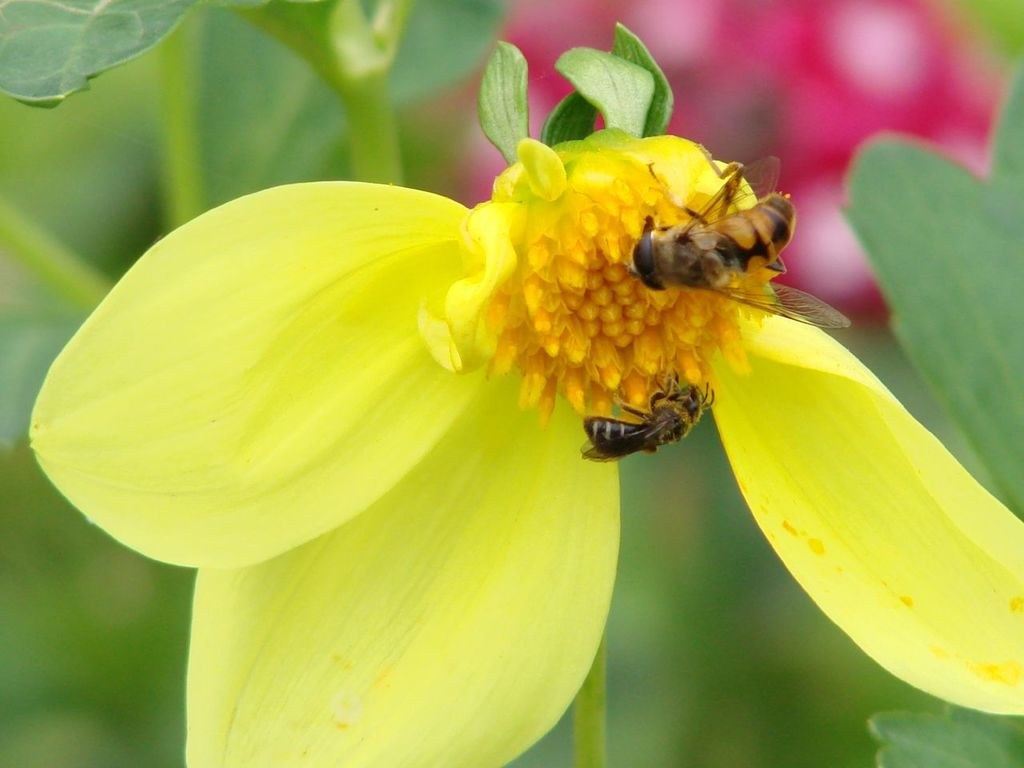bee: (625, 162, 853, 328), (566, 366, 716, 462)
insect: (90, 34, 1024, 734)
